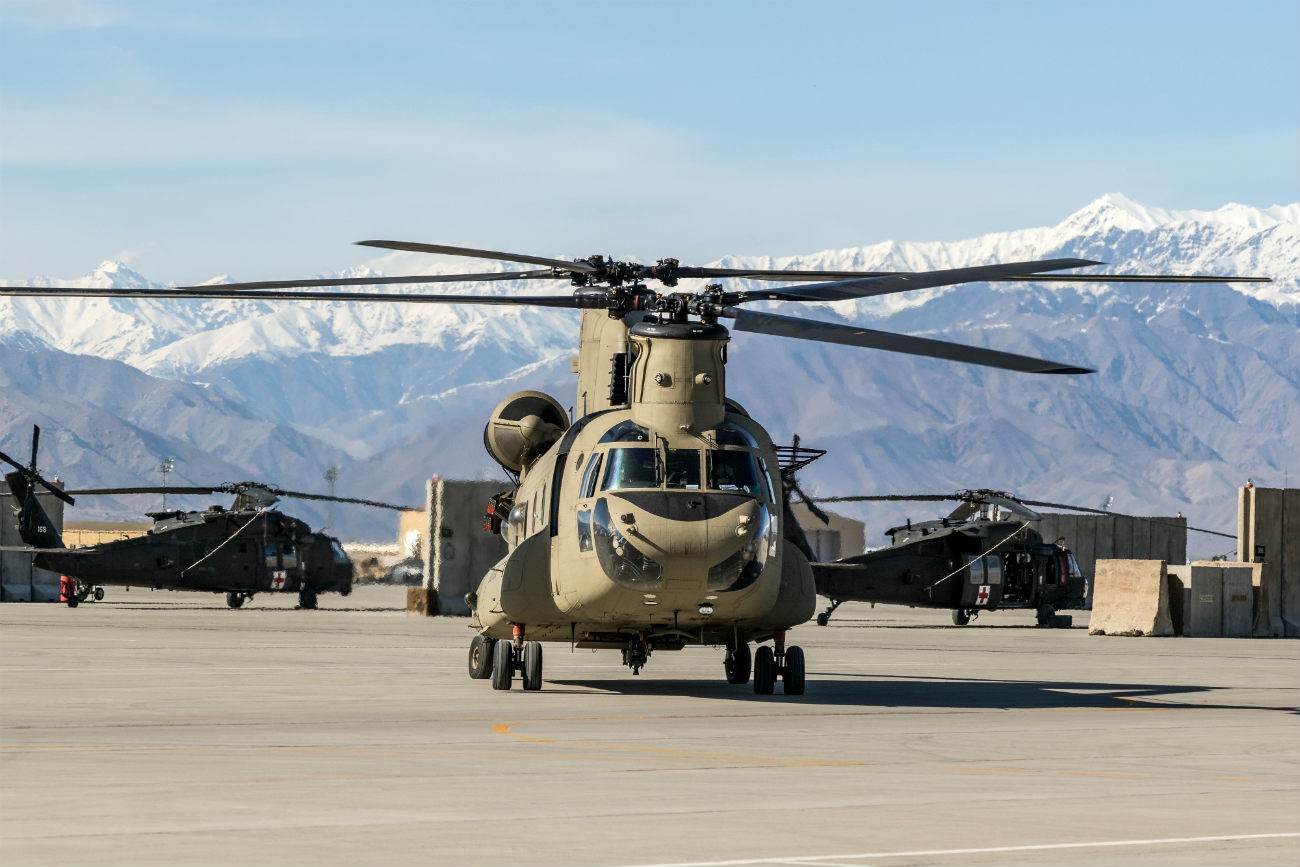black hawk: (11, 449, 362, 628), (817, 479, 1111, 646)
chinook: (412, 238, 847, 706)
